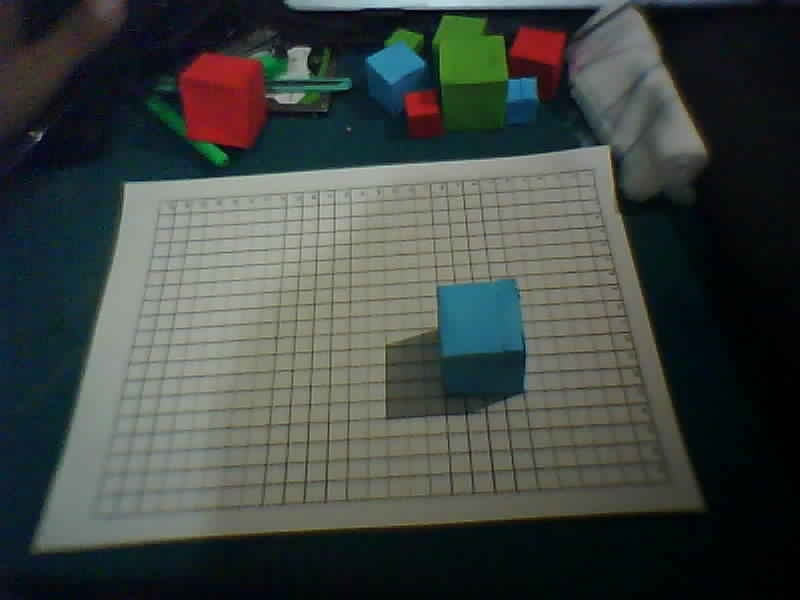LB: (91, 511, 99, 517)
LT: (156, 198, 164, 204)
RB: (666, 479, 674, 485)
RT: (589, 167, 597, 173)
